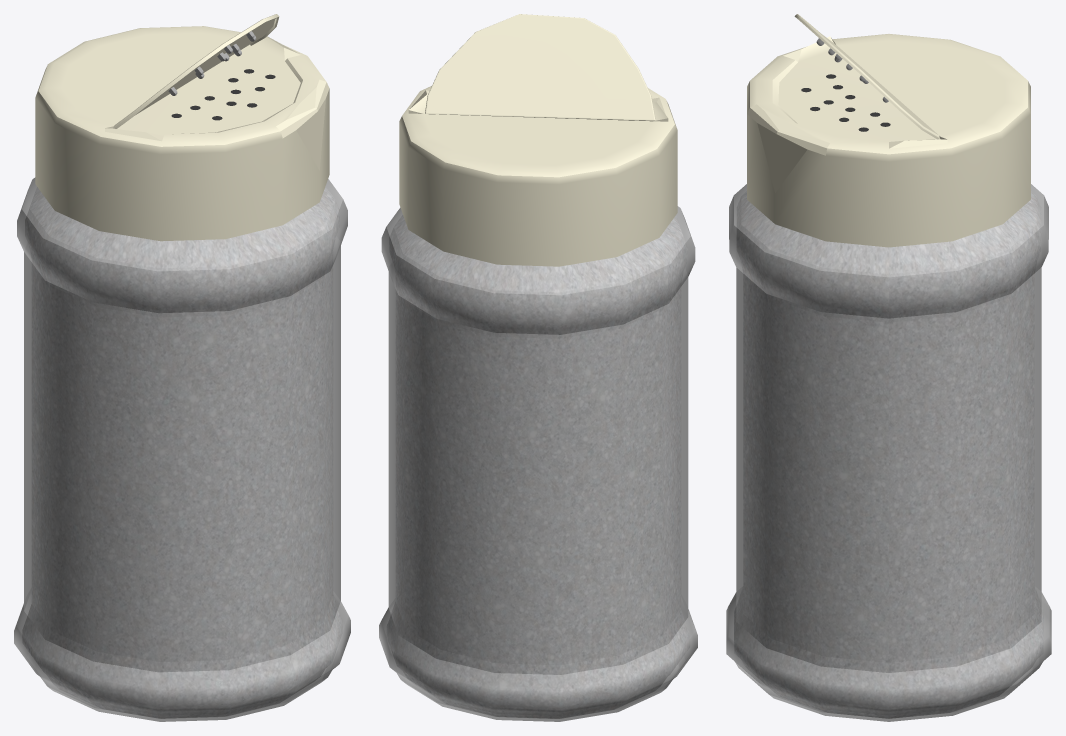
Rendered from Glitter_Shaker.fbx.
3 renders of one model, left to right at view 1: azimuth 30°, elevation 25°; view 2: azimuth 150°, elevation 25°; view 3: azimuth 270°, elevation 25°, orthographic. The views are drawn at different scales.
Parts seen in each view (by area): view 1: Bottle, Gliiter, Cap1, Cap_patch; view 2: Bottle, Gliiter, Cap1, Cap_patch; view 3: Bottle, Gliiter, Cap1, Cap_patch.
Boxes of the visible parts, <box> form: Bottle: <box>14,177,350,721</box>; Gliiter: <box>22,187,342,718</box>; Cap1: <box>35,26,329,241</box>; Cap_patch: <box>113,14,279,128</box>; Bottle: <box>379,206,697,721</box>; Gliiter: <box>387,215,689,718</box>; Cap1: <box>399,86,677,266</box>; Cap_patch: <box>425,14,655,121</box>; Bottle: <box>726,184,1051,721</box>; Gliiter: <box>734,192,1043,718</box>; Cap1: <box>747,34,1030,247</box>; Cap_patch: <box>794,14,939,139</box>.
Bounding box in the file's own units: 1.04 × 2.21 × 1.01.
